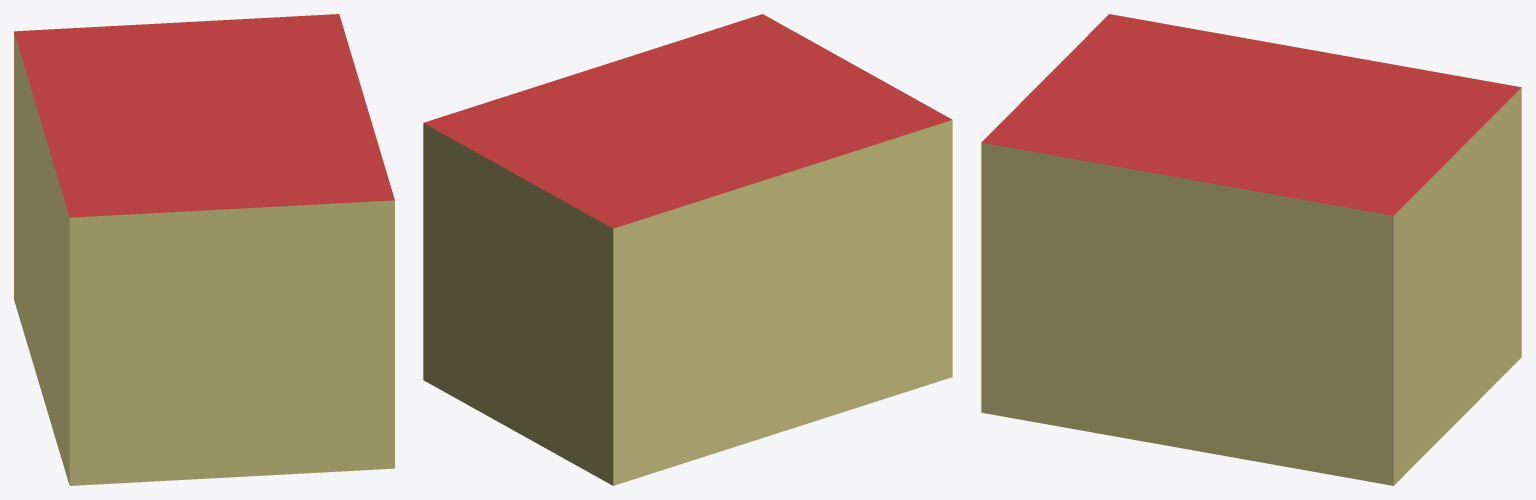
3 renders of one model, left to right at view 1: azimuth 30°, elevation 25°; view 2: azimuth 150°, elevation 25°; view 3: azimuth 270°, elevation 25°, orthographic. The views are drawn at different scales.
Visible parts, largest first — view 1: group_4, group_3; view 2: group_4, group_3; view 3: group_4, group_3.
Boxes of the visible parts, left/top/right/bottom form: group_4: left=14, top=32, right=394, bottom=485; group_3: left=14, top=14, right=394, bottom=217; group_4: left=423, top=120, right=952, bottom=485; group_3: left=423, top=14, right=952, bottom=228; group_4: left=981, top=88, right=1521, bottom=485; group_3: left=981, top=14, right=1521, bottom=215.
Bounding box in the file's own units: 9.14 × 10.33 × 5.7.
